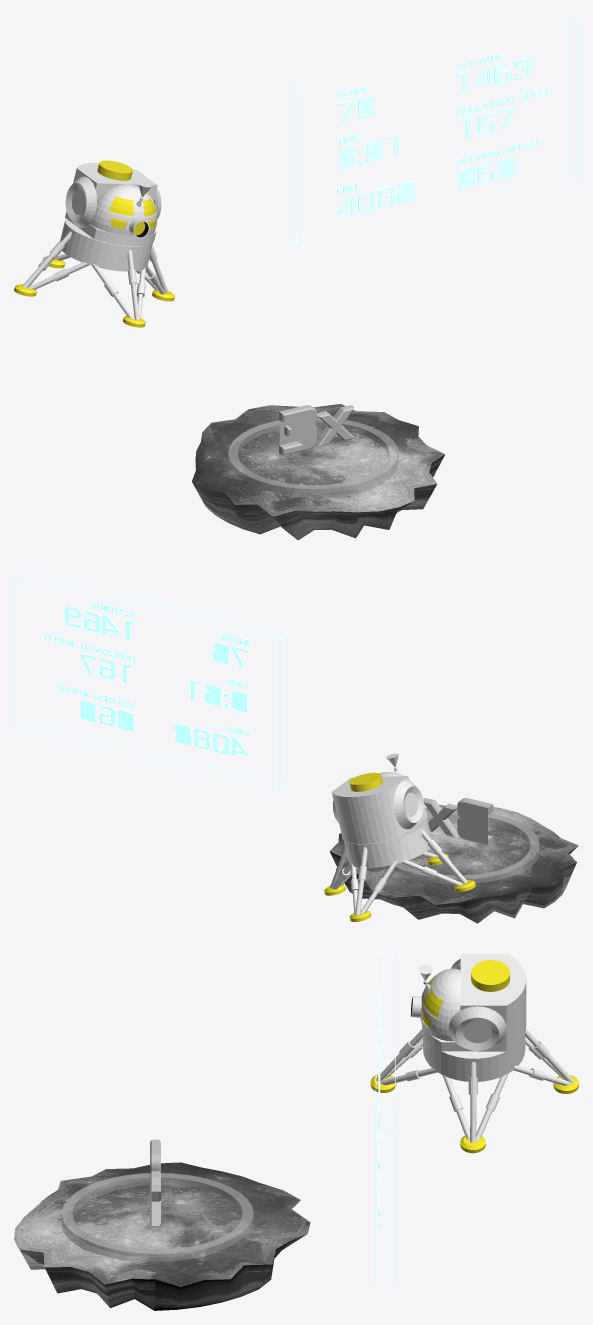
Rendered from TagalongAndLandingPadRough.fbx.
3 renders of one model, top to bottom at view 1: azimuth 30°, elevation 25°; view 2: azimuth 150°, elevation 25°; view 3: azimuth 270°, elevation 25°, orthographic. The views are drawn at different scales.
Parts seen in each view (by area): view 1: LandingRing, Lander, Tube, Cube, Cap_1_70; view 2: LandingRing, Lander, Tube, Cube, Cap_2_70; view 3: LandingRing, Lander, Tube, Cube.
Boxes of the visible parts, x1,y1,x2,y2 form: LandingRing: (192,404,444,540); Lander: (14,160,174,327); Tube: (228,417,398,497); Cube: (290,14,578,248); Cap_1_70: (284,409,316,454); LandingRing: (329,804,578,923); Lander: (324,753,475,921); Tube: (388,810,539,884); Cube: (14,569,287,791); Cap_2_70: (457,802,487,844); LandingRing: (14,1162,310,1310); Lander: (370,953,578,1153); Tube: (61,1173,253,1261); Cube: (375,952,395,1284).
Bounding box in the file's own units: 1855 × 1069 × 1552.
Materials: 7 (1 with a texture image).
